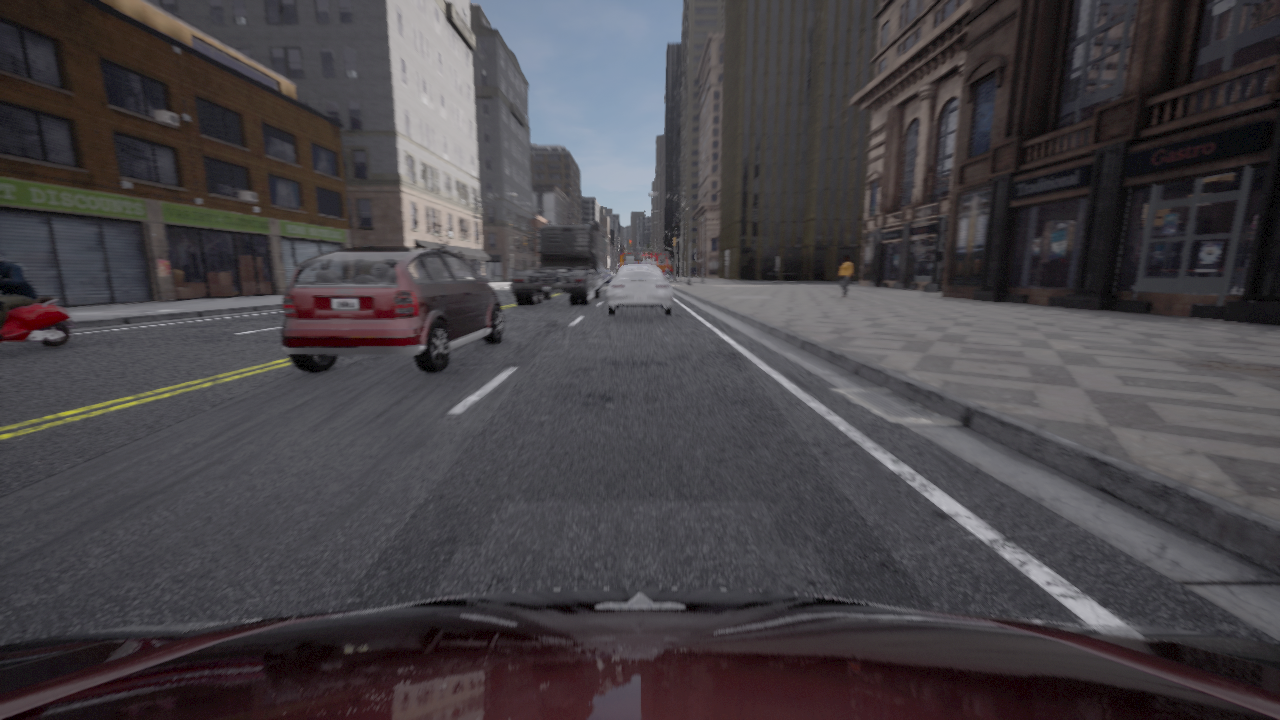cyclist: (0, 588, 1279, 719), (281, 247, 502, 372), (509, 223, 607, 305), (0, 296, 75, 346), (607, 265, 671, 315), (619, 251, 673, 271), (602, 271, 614, 283)
pedestrian: (838, 255, 852, 298)
